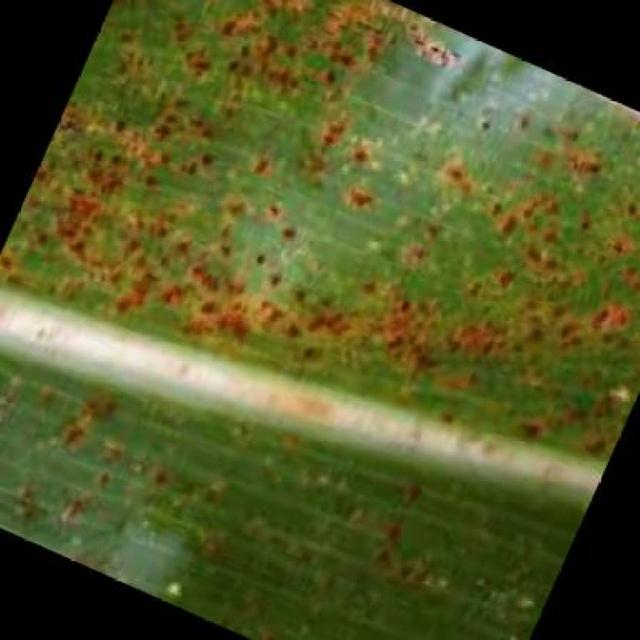Corn_Rust: (86, 74, 563, 560)
